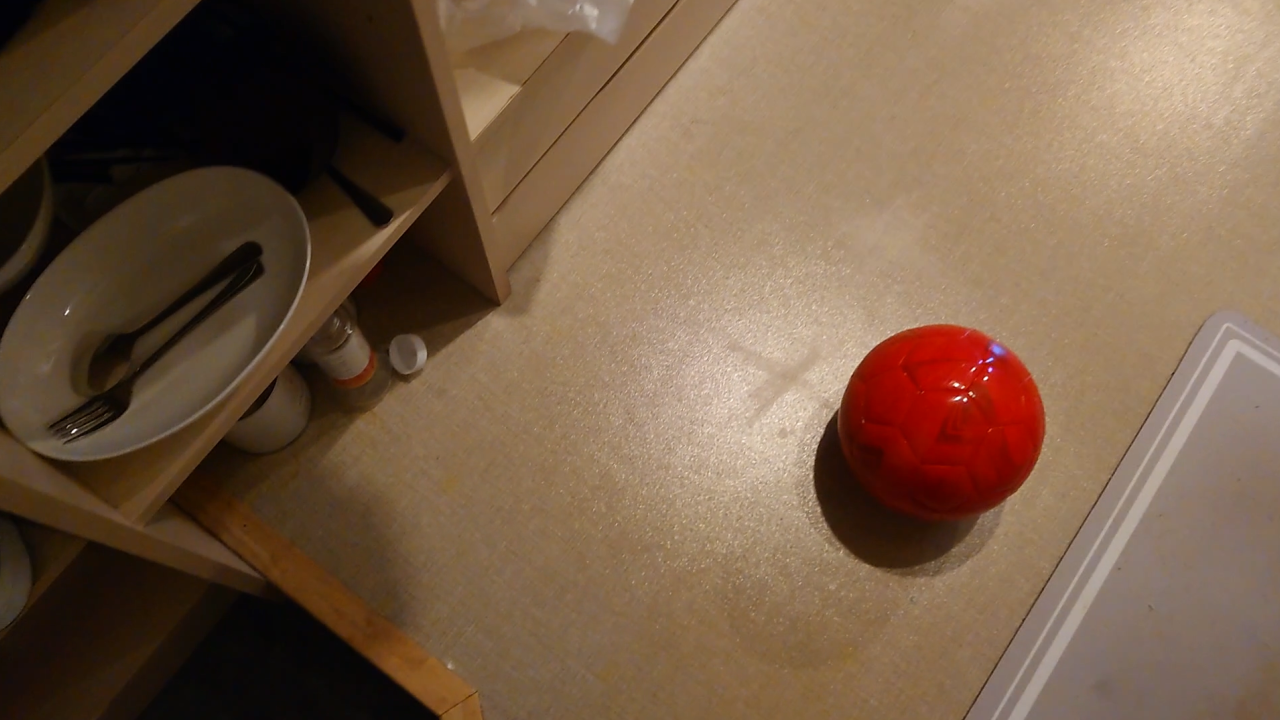red: (843, 326, 1046, 522)
